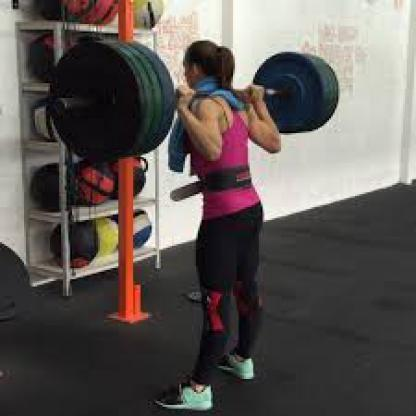barbell: (49, 38, 339, 163)
